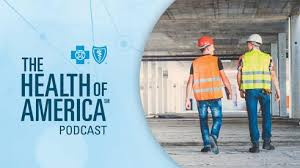helmet: (245, 33, 265, 44), (196, 35, 212, 47)
vest: (189, 57, 221, 98), (243, 53, 273, 90)
